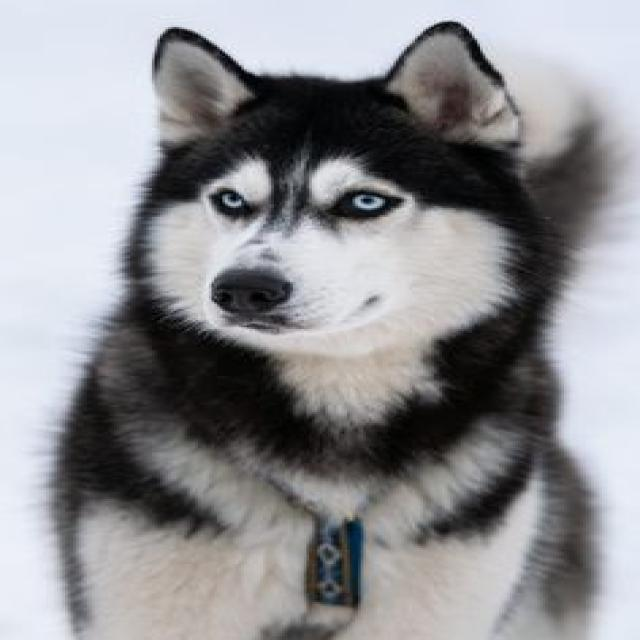Carnivorous: (49, 22, 602, 640)
